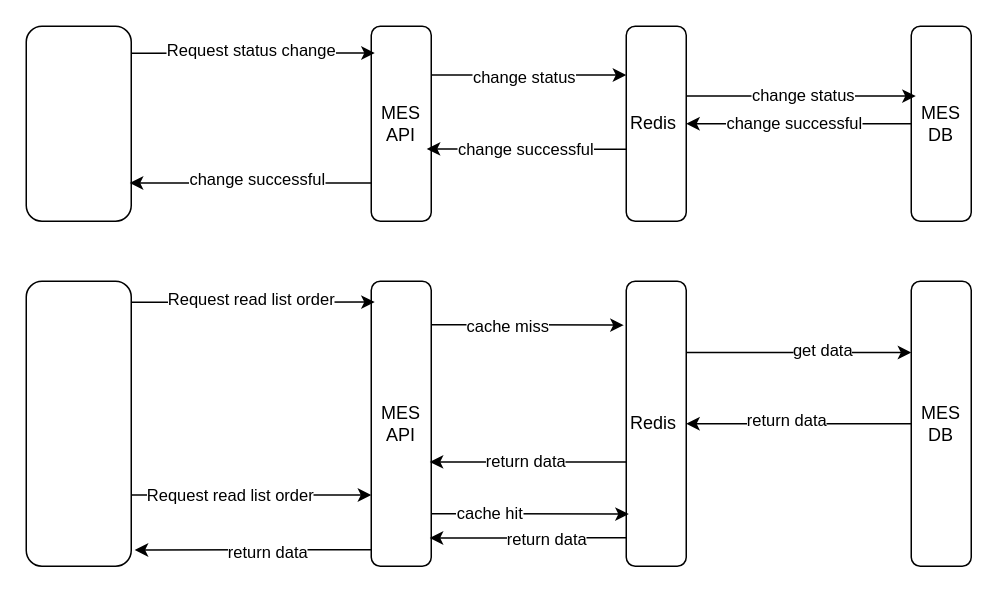
This 998x593 diagram has some shape labels left out. Each missing label, with the centre of its shape:
"client" belongs at pixel 78 423.
"client or RabbitMQ" belongs at pixel 78 123.
